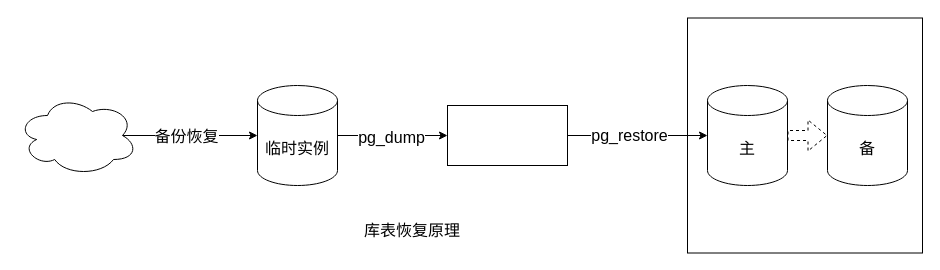
Some shapes in this 940 by 270 pixel diagram are drawn without their labels. Each missing label, with the centre of its shape:
COS: the point at 77,135
相关SQL: the point at 507,135
